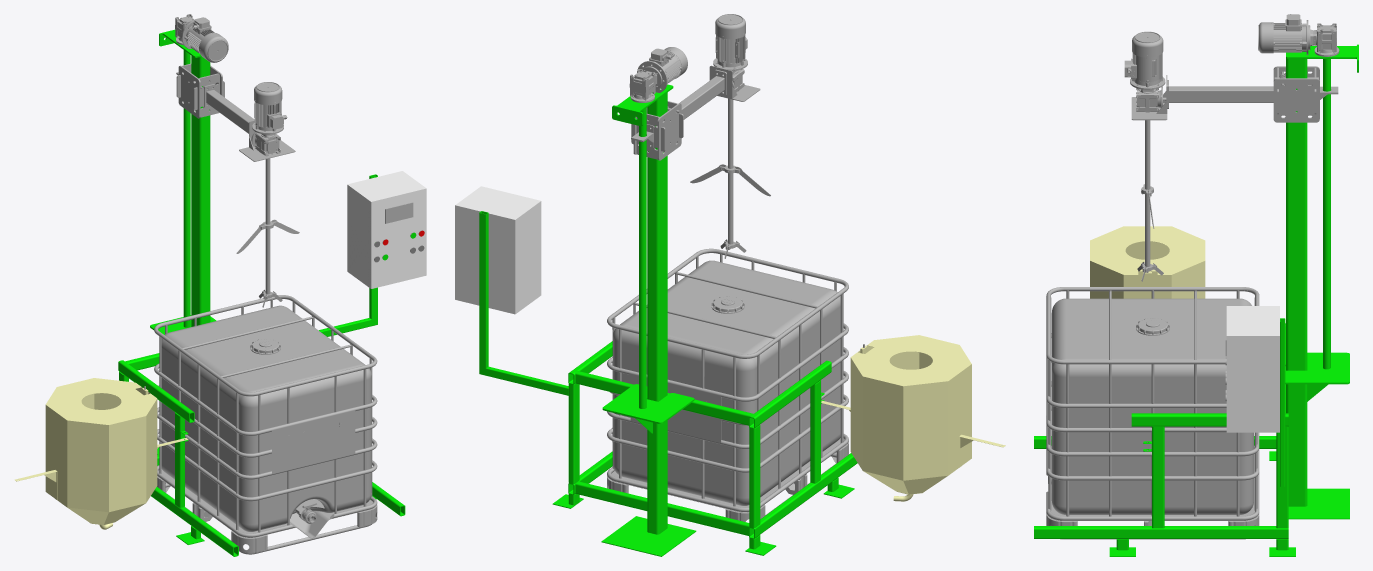
File: mec_misc_assieme_r02.glb
3 views of the same model, side by side, from view 1: azimuth 30°, elevation 25°; view 2: azimuth 150°, elevation 25°; view 3: azimuth 270°, elevation 25° (orthographic). The views are drawn at different scales.
Visible parts, largest first — view 1: IBC Assembly-1, mec_misc_vasca_lavaggio_r03-1, mec_misc_struttura_r02-1, mec_prof_sample_quadro_elettrico-1, mec_misc_motore_riduttore-1, mec_misc_motore_riduttore-2, braccio_slitta_r02-1, piastra_laterale-1, mec_misc_impeller_asta_r01-1, piastra_frontale-1, piastra_collegamento_motore_r02-1; view 2: IBC Assembly-1, mec_misc_struttura_r02-1, mec_misc_vasca_lavaggio_r03-1, mec_prof_sample_quadro_elettrico-1, mec_misc_motore_riduttore-2, mec_misc_motore_riduttore-1, braccio_slitta_r02-1, piastra_laterale-1, mec_misc_impeller_asta_r01-1; view 3: IBC Assembly-1, mec_misc_struttura_r02-1, mec_misc_vasca_lavaggio_r03-1, mec_prof_sample_quadro_elettrico-1, mec_misc_motore_riduttore-2, mec_misc_motore_riduttore-1, piastra_laterale-2, braccio_slitta_r02-1, mec_misc_impeller_asta_r01-1, piastra_collegamento_motore_r02-1.
Part boxes in pixels (x1,y1,x2,y2): IBC Assembly-1: [154, 295, 377, 554]; mec_misc_vasca_lavaggio_r03-1: [14, 378, 188, 529]; mec_misc_struttura_r02-1: [118, 29, 405, 556]; mec_prof_sample_quadro_elettrico-1: [347, 171, 426, 288]; mec_misc_motore_riduttore-1: [251, 82, 287, 156]; mec_misc_motore_riduttore-2: [175, 14, 228, 62]; braccio_slitta_r02-1: [204, 84, 254, 133]; piastra_laterale-1: [178, 65, 200, 118]; mec_misc_impeller_asta_r01-1: [265, 158, 270, 294]; piastra_frontale-1: [193, 73, 224, 117]; piastra_collegamento_motore_r02-1: [239, 120, 295, 161]; IBC Assembly-1: [607, 248, 848, 521]; mec_misc_struttura_r02-1: [479, 84, 857, 556]; mec_misc_vasca_lavaggio_r03-1: [821, 335, 1005, 501]; mec_prof_sample_quadro_elettrico-1: [455, 186, 541, 314]; mec_misc_motore_riduttore-2: [629, 47, 687, 102]; mec_misc_motore_riduttore-1: [713, 14, 747, 92]; braccio_slitta_r02-1: [679, 69, 726, 119]; piastra_laterale-1: [657, 103, 681, 160]; mec_misc_impeller_asta_r01-1: [728, 98, 733, 244]; IBC Assembly-1: [1046, 287, 1259, 539]; mec_misc_struttura_r02-1: [1034, 44, 1358, 556]; mec_misc_vasca_lavaggio_r03-1: [1090, 226, 1205, 298]; mec_prof_sample_quadro_elettrico-1: [1225, 306, 1279, 432]; mec_misc_motore_riduttore-2: [1258, 14, 1339, 56]; mec_misc_motore_riduttore-1: [1124, 31, 1166, 112]; piastra_laterale-2: [1273, 78, 1319, 122]; braccio_slitta_r02-1: [1167, 80, 1273, 108]; mec_misc_impeller_asta_r01-1: [1145, 120, 1150, 266]; piastra_collegamento_motore_r02-1: [1131, 75, 1167, 120].
Size of the model in its own units: 3.22 by 3.03 by 1.83.
